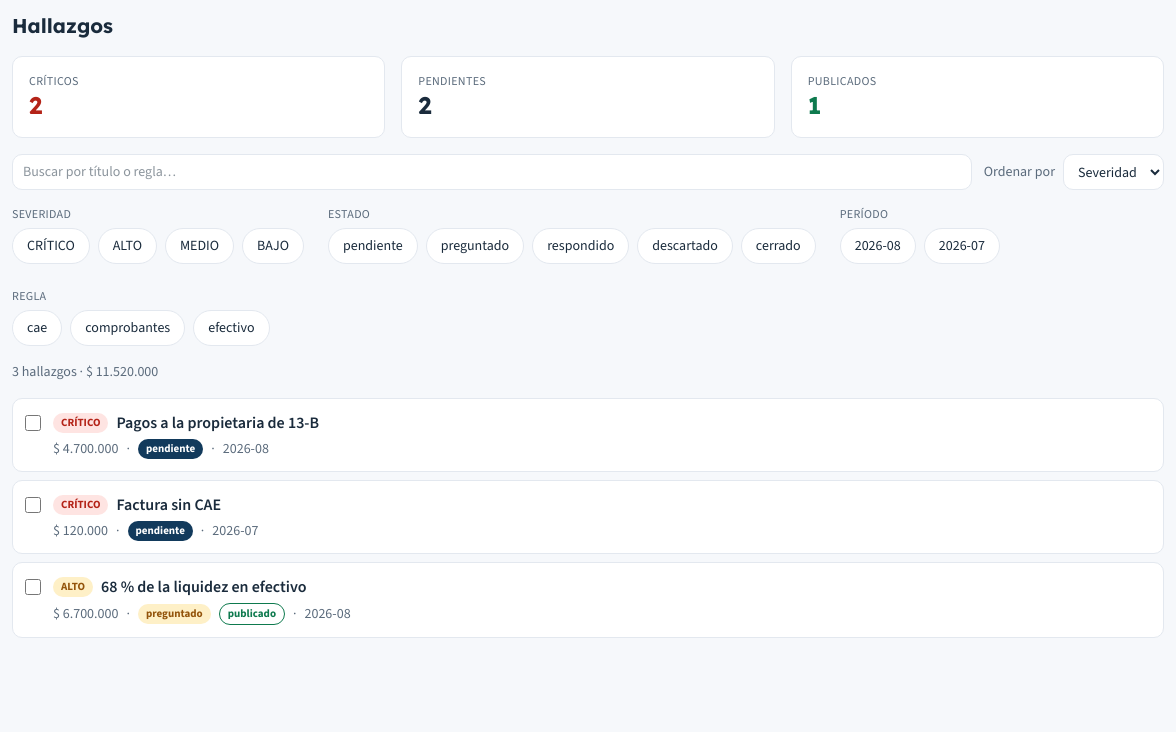
it: la búsqueda filtra en memoria y el contador dice cuánto se muestra
This screenshot has width=1176, height=732.
Expected: the text "Pagos a la propietaria de 13-B" is shown, [116, 411, 319, 435]
Type "efectivo" into the search field labelled "Buscar por título o regla…" at (492, 172), box [12, 154, 972, 190]
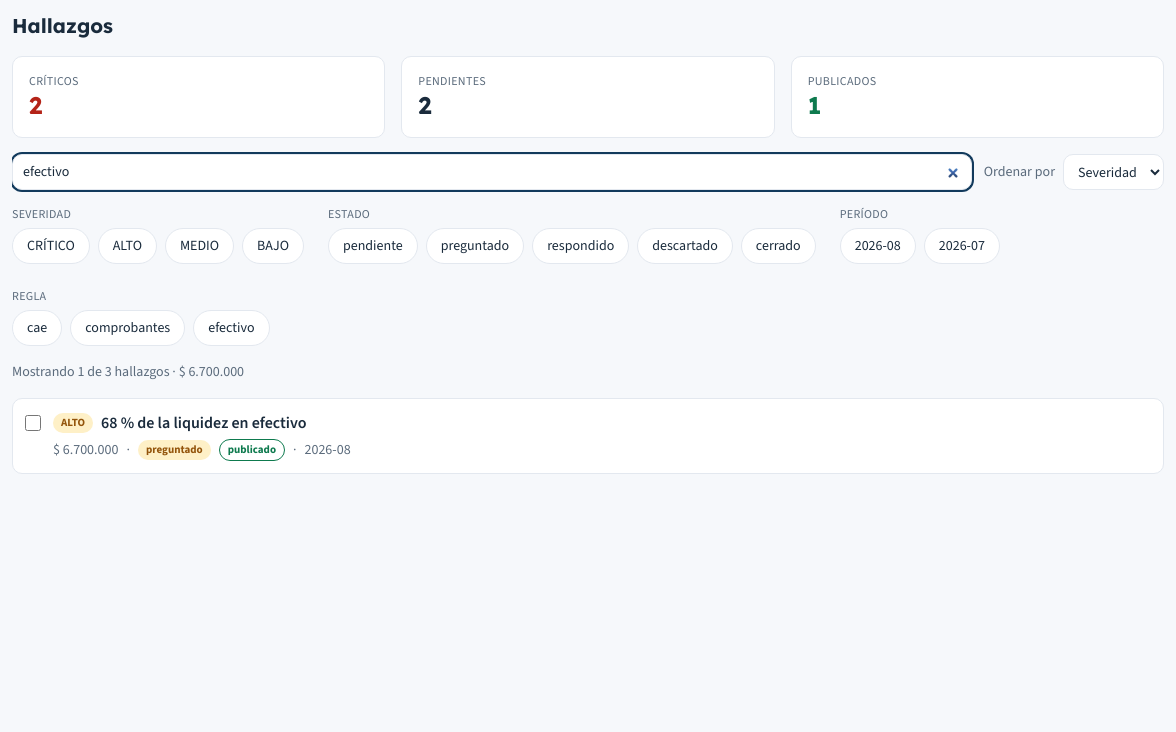
Expected: the text "68 % de la liquidez en efectivo" is shown, [101, 411, 307, 435]
Now the button "Pagos a la propietaria" is gone
Now the text "Mostrando 1 de 3 hallazgos · $ 6.700.000" is shown, box [12, 362, 244, 381]
